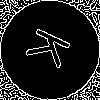K: (25, 25, 80, 75)
